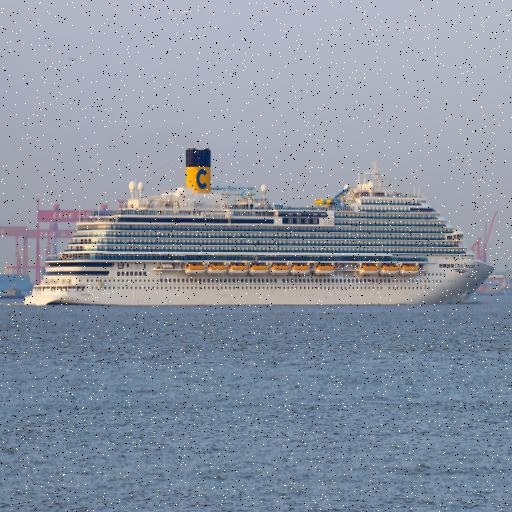cruises: (20, 144, 499, 316)
